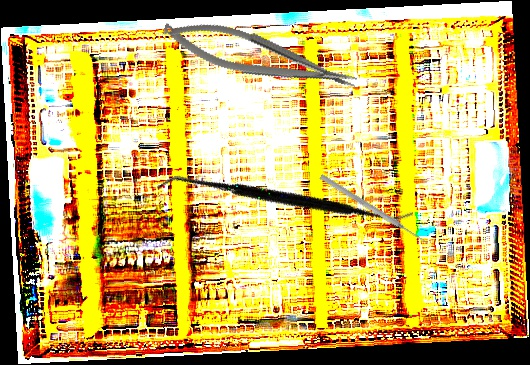Needle Holder: (158, 6, 361, 109)
Pusher: (318, 172, 431, 248)
Spatula Surgical: (156, 96, 415, 306)
